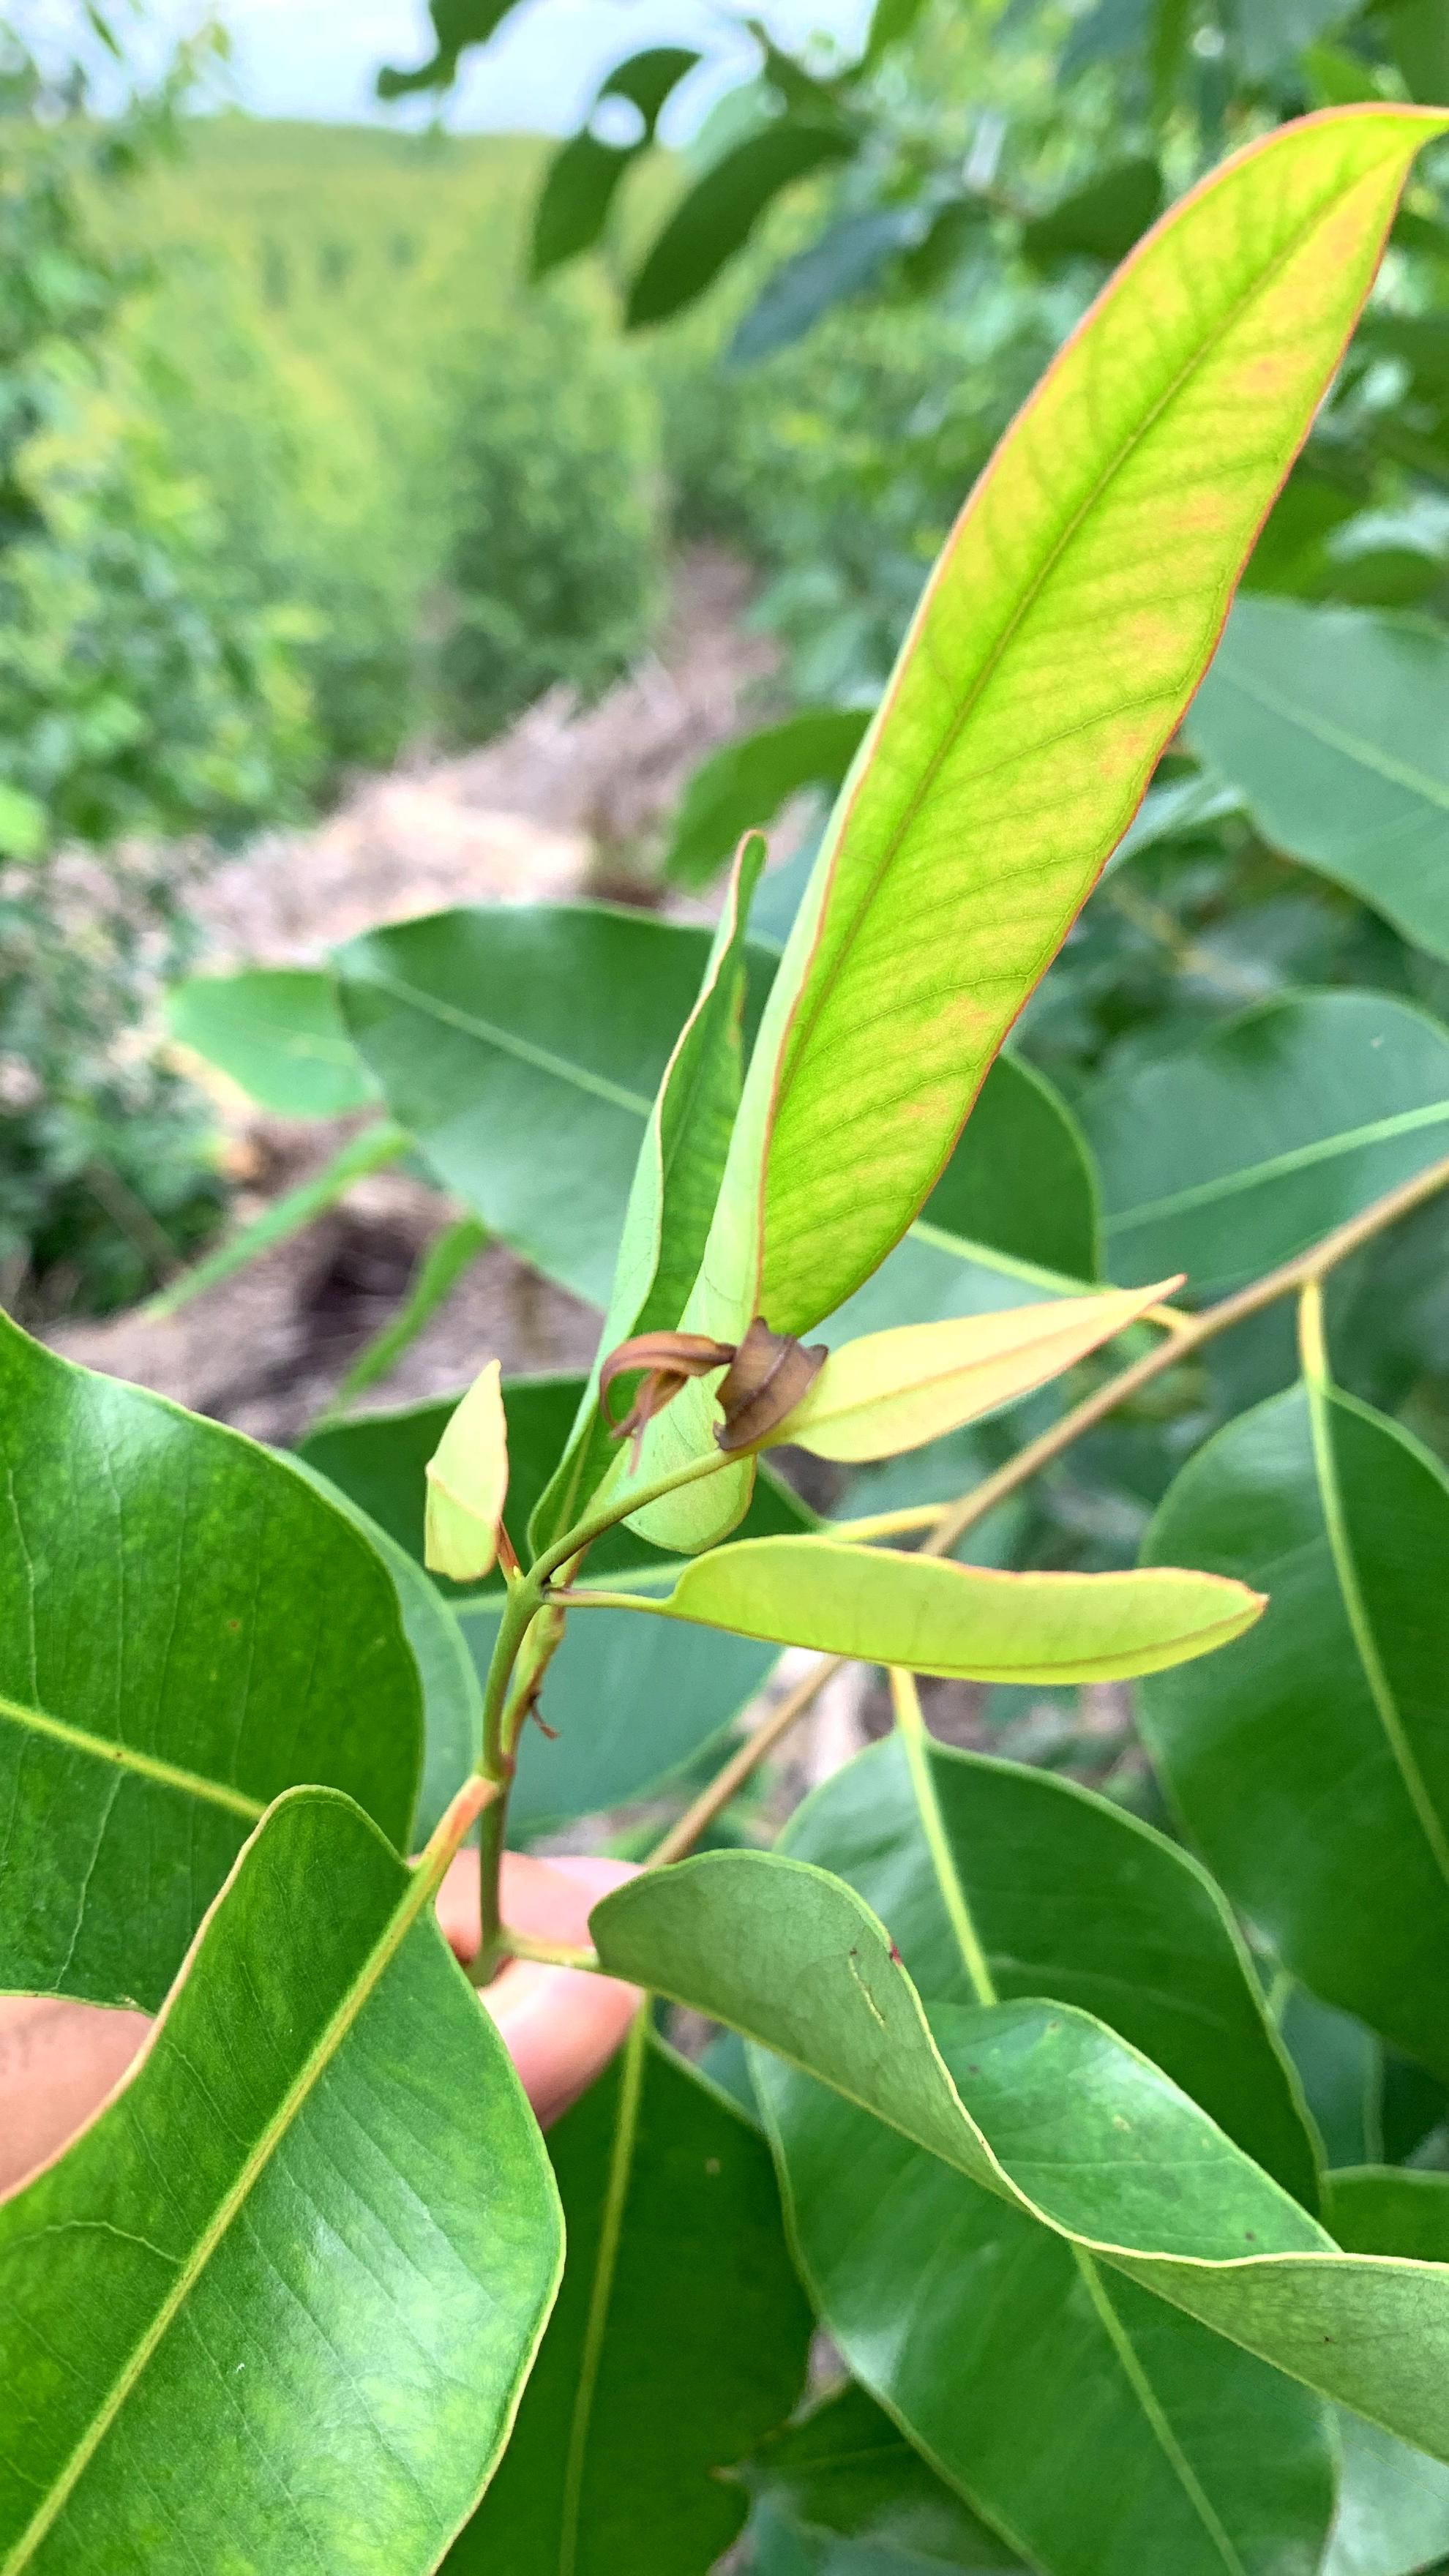Helopeltis-Withered Sprout: (552, 1311, 858, 1536)
